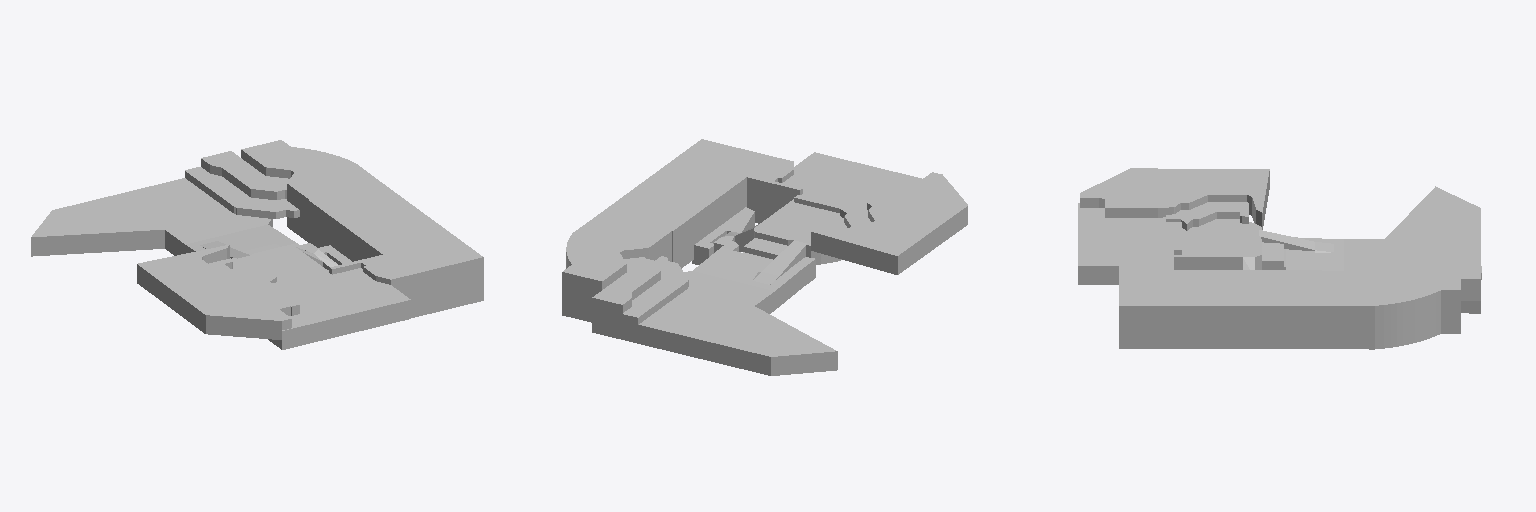
File: floor.obj
3 renders of one model, left to right at view 1: azimuth 30°, elevation 25°; view 2: azimuth 150°, elevation 25°; view 3: azimuth 270°, elevation 25°, orthographic.
Parts seen in each view (by area): view 1: polySurface16; view 2: polySurface16; view 3: polySurface16.
Part boxes in pixels (x1,y1,x2,y2): polySurface16: (31, 140, 483, 349); polySurface16: (562, 139, 967, 375); polySurface16: (1078, 168, 1481, 349).
Bounding box in the file's own units: 64.38 × 11 × 76.2.